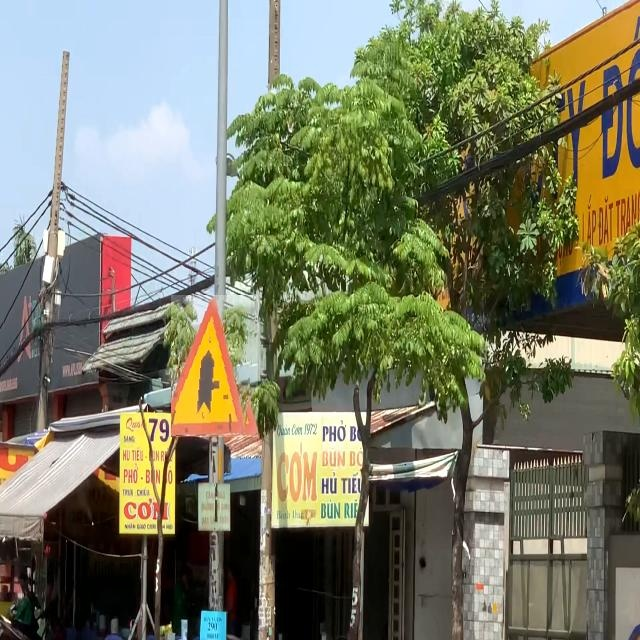bien_nguy_hiem: (171, 295, 258, 437)
